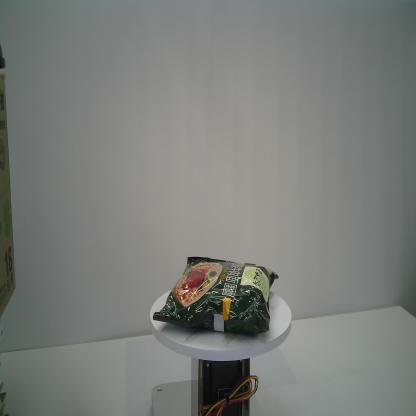Instant Noodles: (152, 254, 280, 338)
